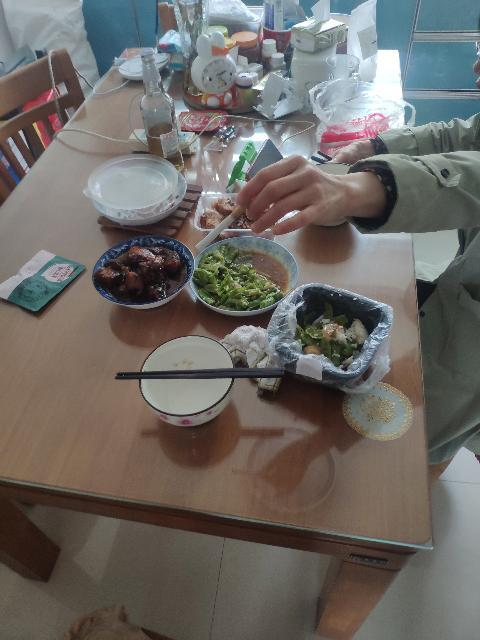Smoking: (196, 196, 254, 252)
